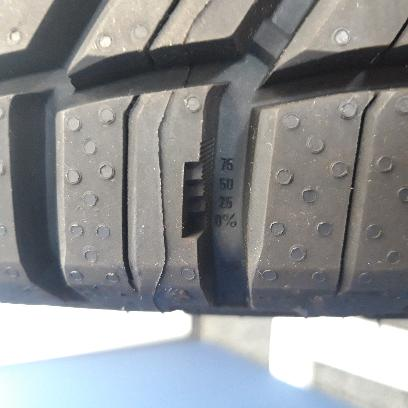temoin:100: (180, 136, 218, 241)
